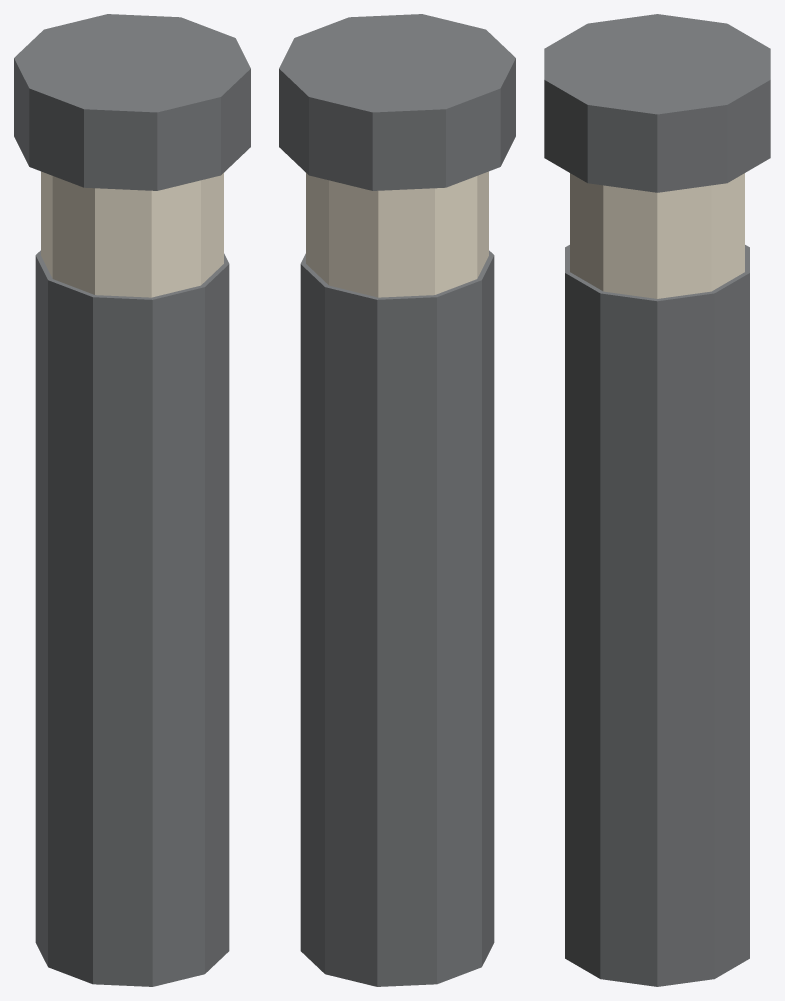
The model's file is Bollard_Light.fbx.
3 renders of one model, left to right at view 1: azimuth 30°, elevation 25°; view 2: azimuth 150°, elevation 25°; view 3: azimuth 270°, elevation 25°, orthographic.
Visible parts, largest first — view 1: Bollard_Light; view 2: Bollard_Light; view 3: Bollard_Light.
Part boxes in pixels (left/top/right/bottom): Bollard_Light: left=14, top=14, right=250, bottom=986; Bollard_Light: left=279, top=14, right=515, bottom=986; Bollard_Light: left=544, top=14, right=770, bottom=986.
Size of the model in its own units: 0.22 by 0.9 by 0.2092.
